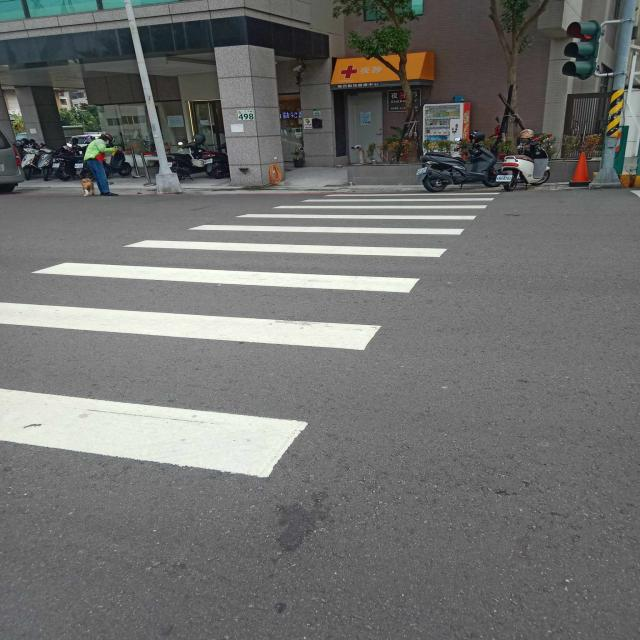zebra_crossing: (336, 98, 640, 288), (52, 88, 155, 248)
